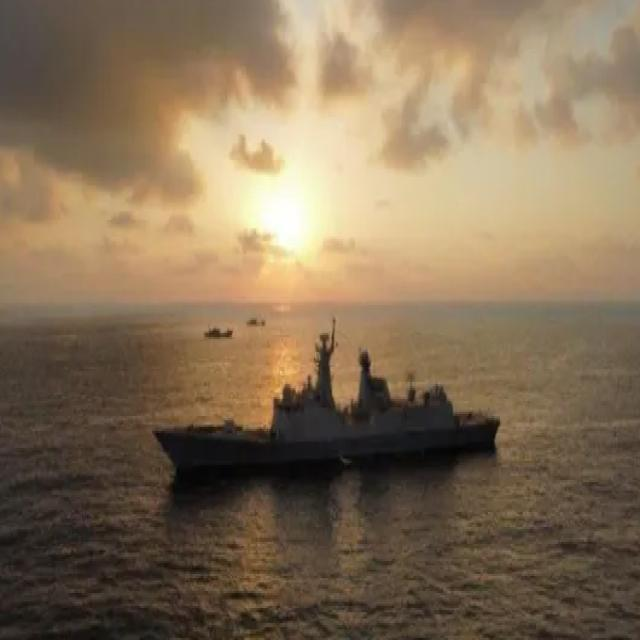navalvessels: (147, 309, 524, 492)
